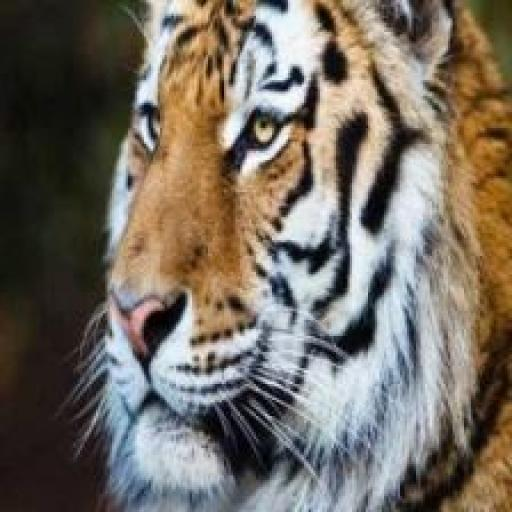Tiger: (55, 0, 512, 511)
